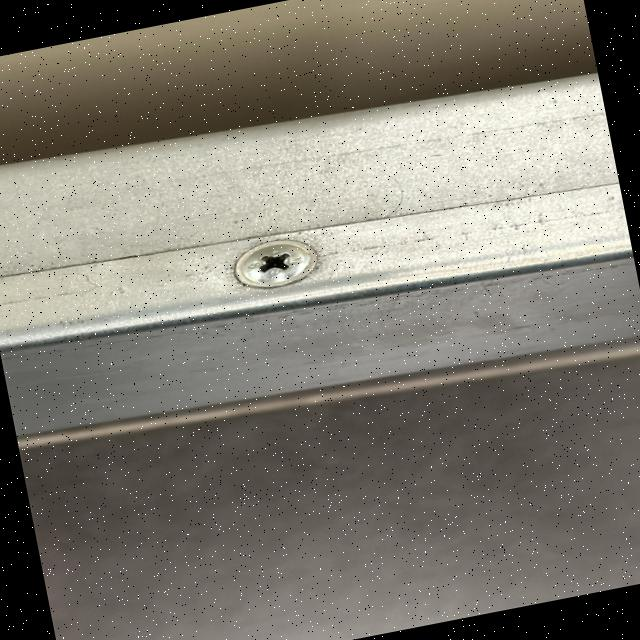Phillips: (222, 234, 338, 294)
